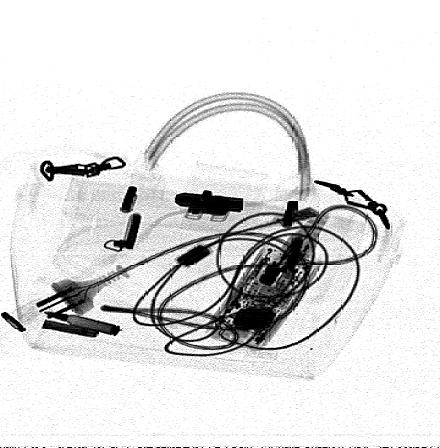Bullet: (38, 310, 123, 338)
